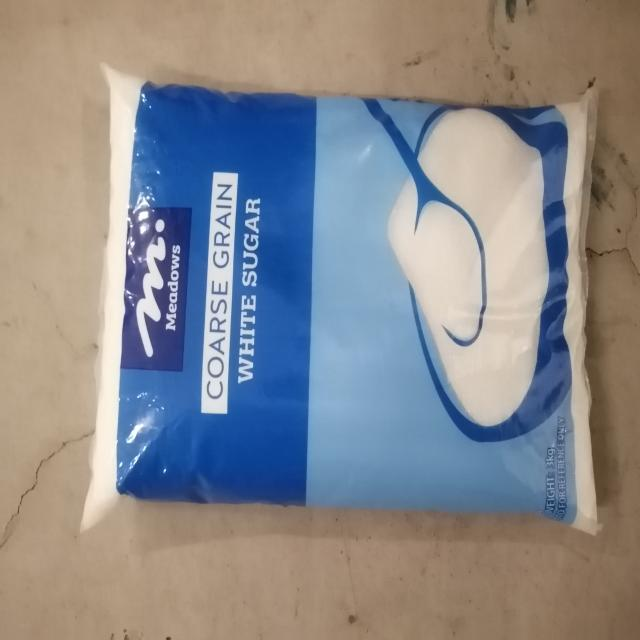object_name: (102, 82, 597, 518)
